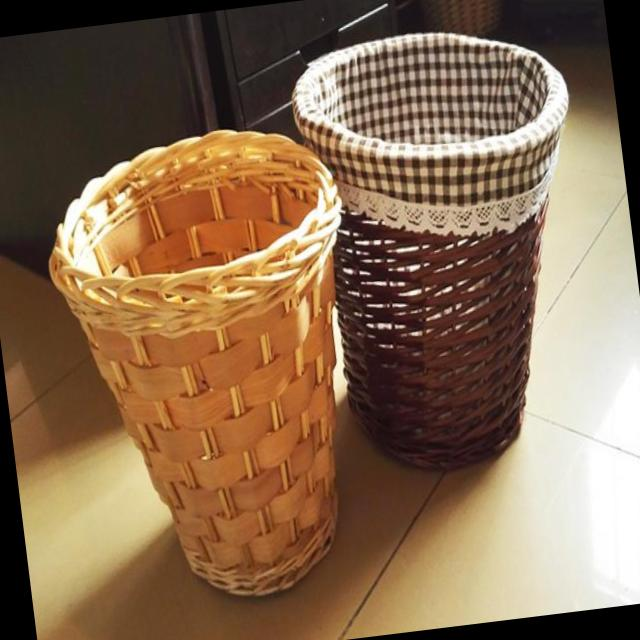dustbin: (31, 114, 390, 622), (284, 11, 616, 492)
